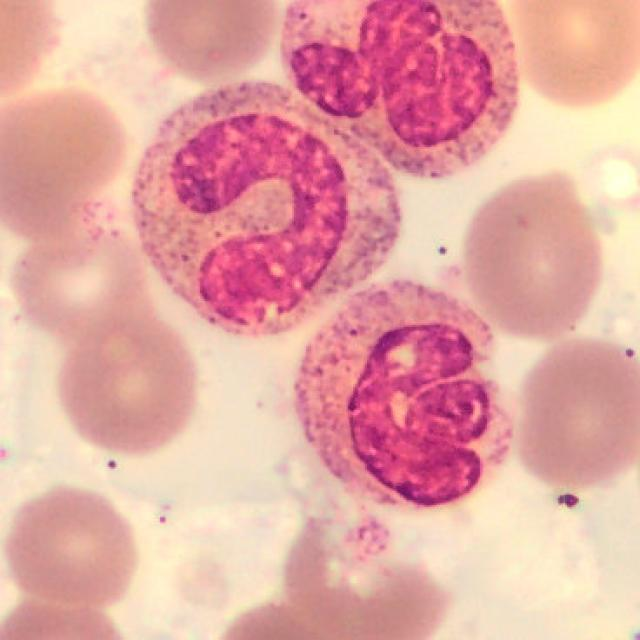Bastonete: (136, 83, 400, 336), (294, 280, 513, 510), (282, 0, 515, 175)
